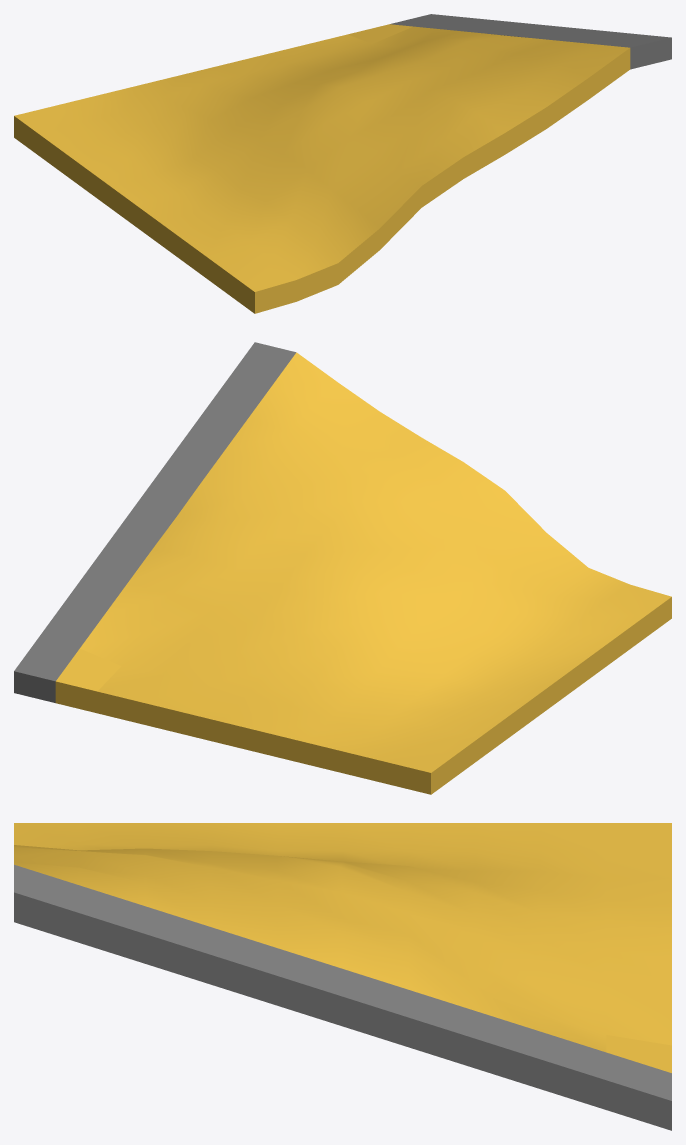
File: Flach - Mitte - Ecke x - a.fbx
3 views of the same model, one above another, from view 1: azimuth 30°, elevation 25°; view 2: azimuth 150°, elevation 25°; view 3: azimuth 270°, elevation 25° (orthographic). The views are drawn at different scales.
Visible parts, largest first — view 1: Flach - Mitte - Ecke x - a; view 2: Flach - Mitte - Ecke x - a; view 3: Flach - Mitte - Ecke x - a.
Part boxes in pixels (x1,y1,x2,y2): Flach - Mitte - Ecke x - a: (14,14,671,313); Flach - Mitte - Ecke x - a: (14,342,671,794); Flach - Mitte - Ecke x - a: (14,823,671,1130).
Bounding box in the file's own units: 394 × 157 × 394.
